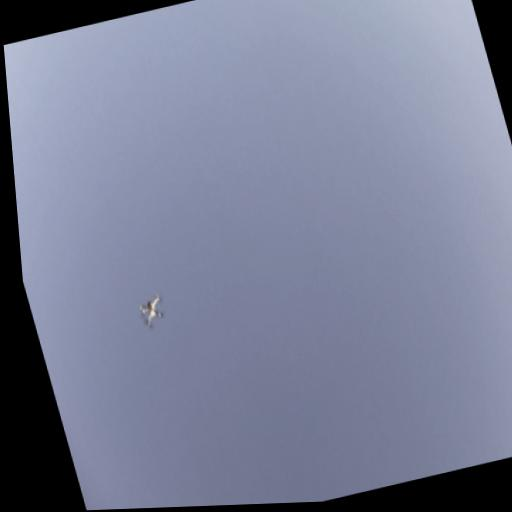drones: (132, 289, 170, 331)
